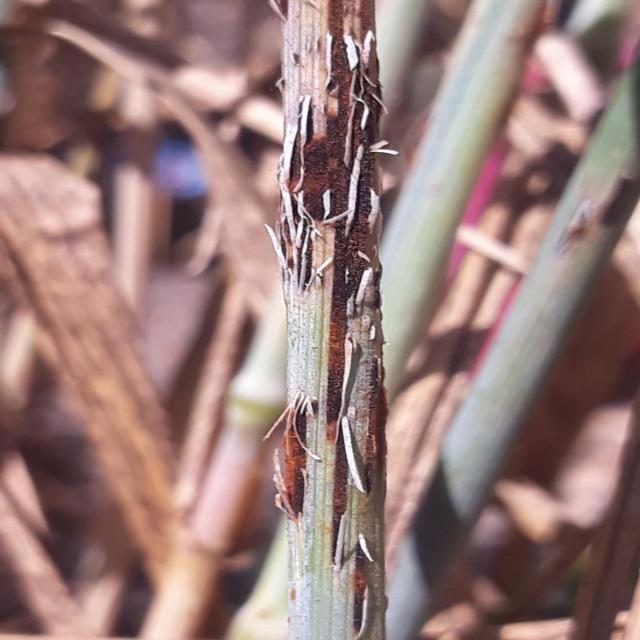black_stem_rust: (169, 0, 428, 640), (479, 6, 640, 640)
